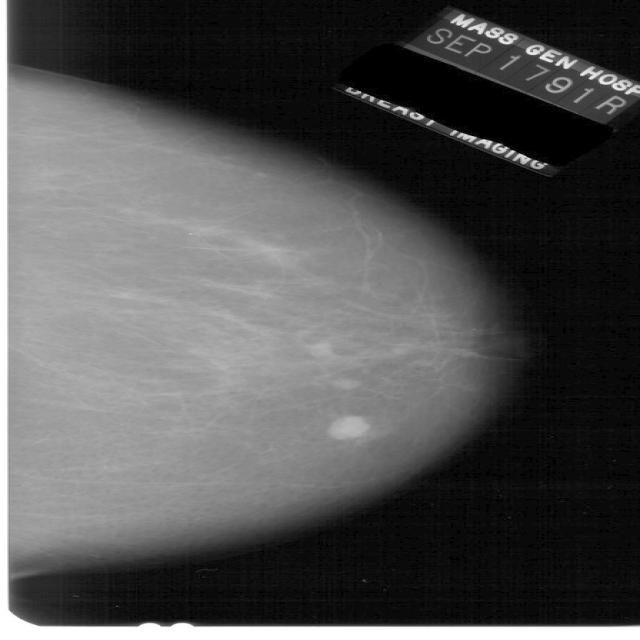tumour: (327, 415, 370, 440)
